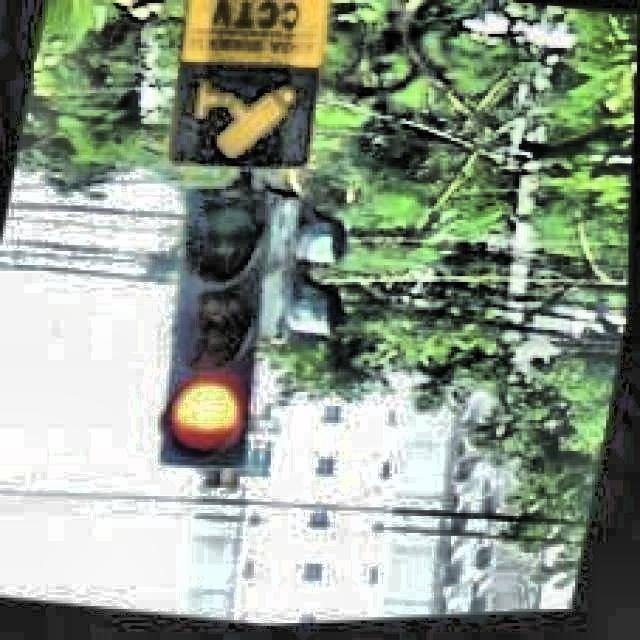red: (174, 183, 260, 477)
